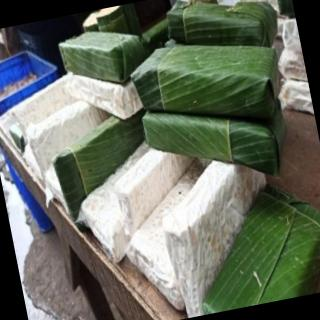Tempe: (150, 149, 291, 319)
